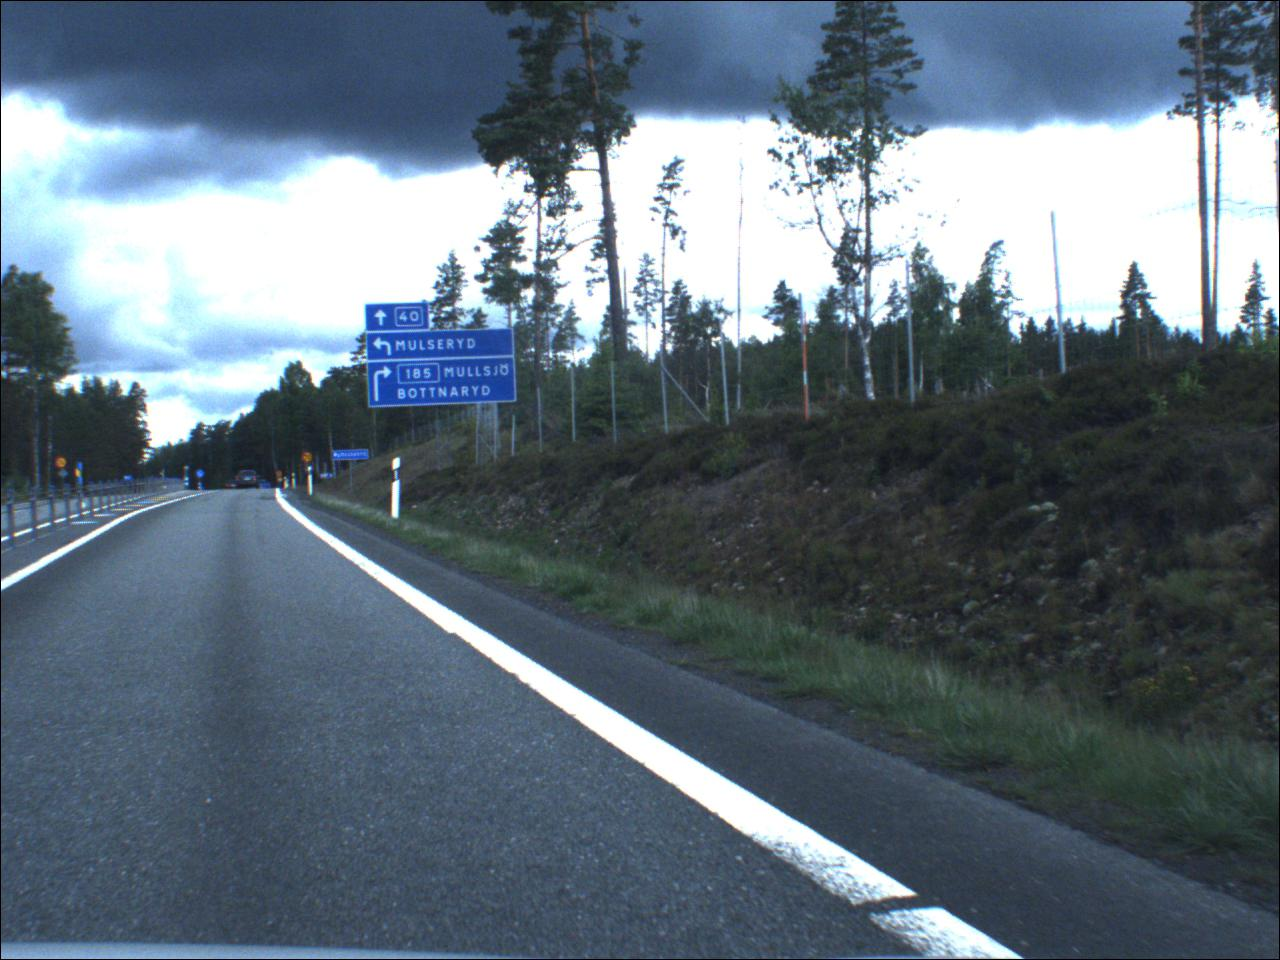70_SIGN: (55, 458, 71, 471), (303, 454, 317, 466), (278, 472, 286, 479)
PASS_RIGHT_SIDE: (198, 471, 208, 481)
